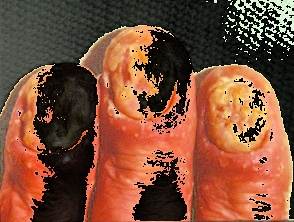Nail_psoriasis: (93, 18, 200, 147), (0, 51, 105, 182), (193, 60, 294, 180)
